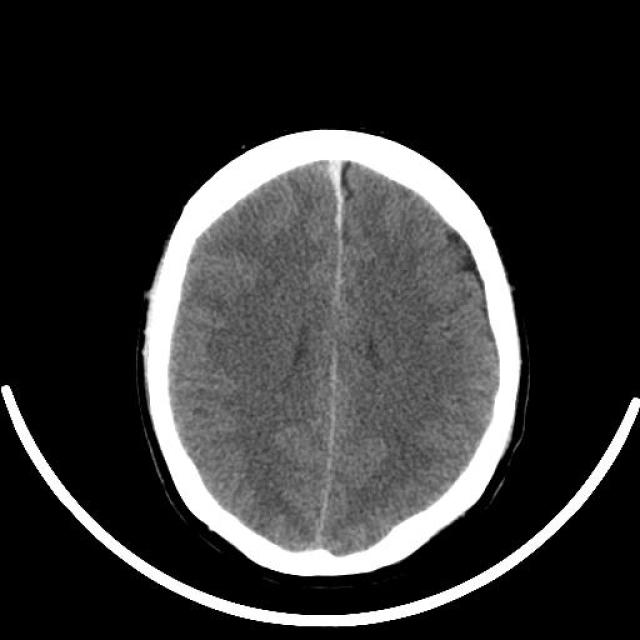Subdural: (306, 145, 382, 267)
